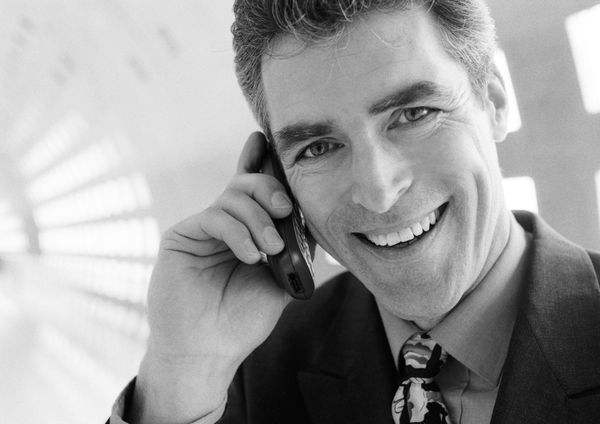calling: (142, 125, 320, 354)
